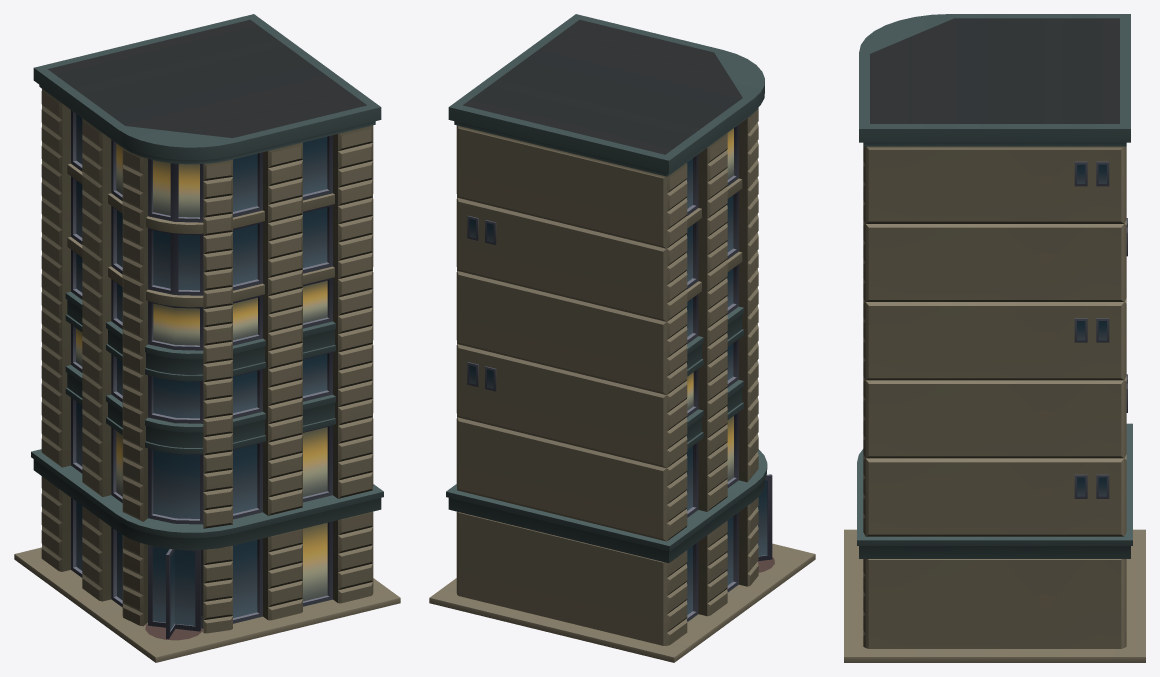
The model's file is Building_12D.fbx.
The picture shows the model from 3 angles, left to right: view 1: azimuth 30°, elevation 25°; view 2: azimuth 150°, elevation 25°; view 3: azimuth 270°, elevation 25°; orthographic projection. The views are drawn at different scales.
Visible parts, largest first — view 1: Building_12D, Window_Lights_12D, Revolving_Door_12D; view 2: Building_12D, Revolving_Door_12D, Window_Lights_12D; view 3: Building_12D.
Part boxes in pixels (<box>): Building_12D: <box>14,14,400,662</box>; Window_Lights_12D: <box>76,143,327,601</box>; Revolving_Door_12D: <box>148,545,200,639</box>; Building_12D: <box>429,14,815,662</box>; Revolving_Door_12D: <box>757,474,772,560</box>; Window_Lights_12D: <box>687,128,733,481</box>; Building_12D: <box>844,14,1145,662</box>.
Bounding box in the file's own units: 14 × 27.01 × 14.
